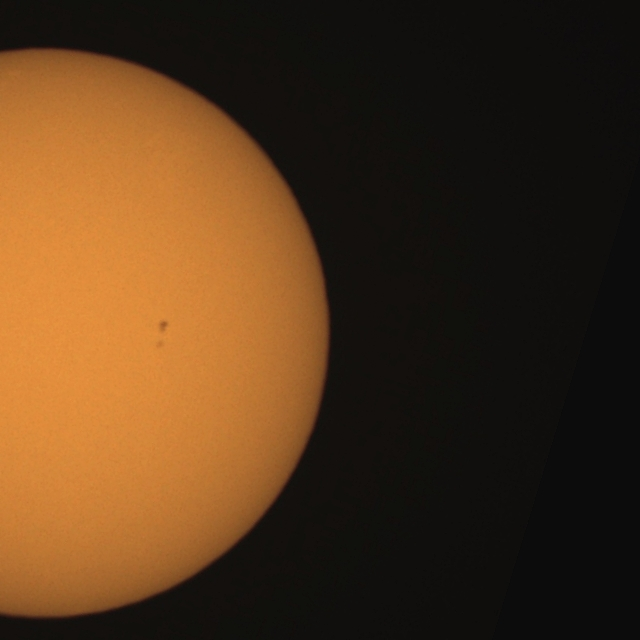sunspot: (153, 318, 171, 350)
